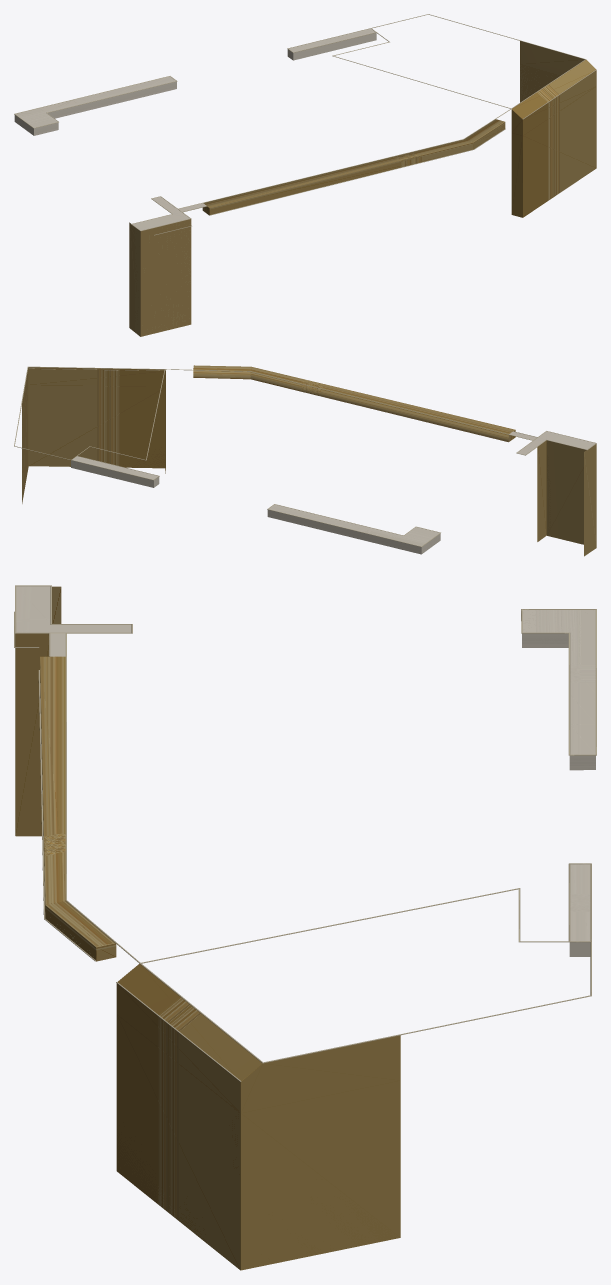
File: objects_un_t05tile03.gltf
3 views of the same model, one above another, from view 1: azimuth 30°, elevation 25°; view 2: azimuth 150°, elevation 25°; view 3: azimuth 270°, elevation 25° (orthographic). The views are drawn at different scales.
Parts seen in each view (by area): view 1: um_objects_un_t05tile03_model_lod1Shape:objects_un_t05tile03 (×2), um_objects_un_t05tile03_model_lod0Shape:objects_un_t05tile03 (×3), um_objects_un_t05tile03_model_lod2Shape:objects_un_t05tile03; view 2: um_objects_un_t05tile03_model_lod0Shape:objects_un_t05tile03 (×3), um_objects_un_t05tile03_model_lod1Shape:objects_un_t05tile03 (×2); view 3: um_objects_un_t05tile03_model_lod0Shape:objects_un_t05tile03 (×3), um_objects_un_t05tile03_model_lod1Shape:objects_un_t05tile03 (×2).
Part boxes in pixels (left/top/right/bottom): um_objects_un_t05tile03_model_lod1Shape:objects_un_t05tile03 (×2): left=15, top=41, right=596, bottom=335; um_objects_un_t05tile03_model_lod0Shape:objects_un_t05tile03 (×3): left=14, top=14, right=596, bottom=336; um_objects_un_t05tile03_model_lod2Shape:objects_un_t05tile03: left=511, top=133, right=522, bottom=217; um_objects_un_t05tile03_model_lod0Shape:objects_un_t05tile03 (×3): left=14, top=366, right=596, bottom=553; um_objects_un_t05tile03_model_lod1Shape:objects_un_t05tile03 (×2): left=22, top=365, right=596, bottom=556; um_objects_un_t05tile03_model_lod0Shape:objects_un_t05tile03 (×3): left=14, top=585, right=596, bottom=1270; um_objects_un_t05tile03_model_lod1Shape:objects_un_t05tile03 (×2): left=40, top=610, right=595, bottom=1269.
Size of the model in its own units: 197 by 38.75 by 101.
3 materials, 3 textured.
